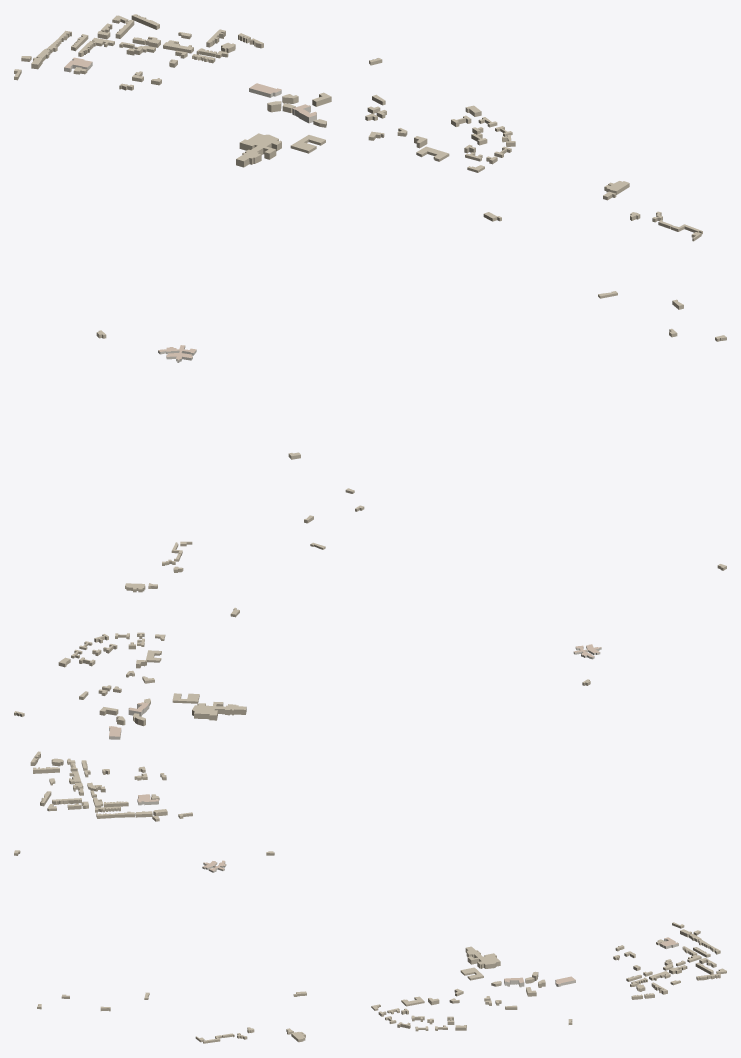
3 renders of one model, top to bottom at view 1: azimuth 30°, elevation 25°; view 2: azimuth 150°, elevation 25°; view 3: azimuth 270°, elevation 25°, orthographic. The views are drawn at different scales.
Size of the model in its own units: 1552 by 34.58 by 2442.
